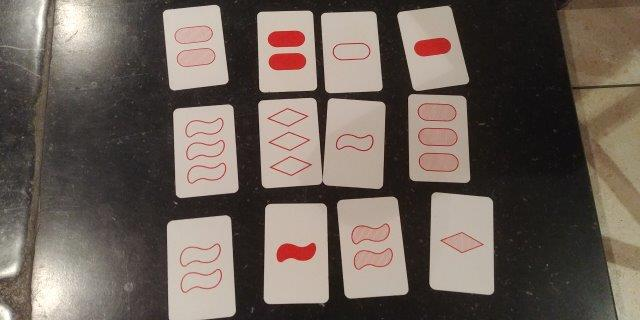1EP: (327, 15, 376, 90)
1EW: (330, 102, 379, 184)
1FP: (412, 12, 452, 85)
1FW: (267, 206, 324, 300)
1HD: (435, 198, 489, 288)
2EW: (171, 225, 229, 315)
2FP: (261, 15, 312, 88)
2HP: (170, 11, 219, 82)
2HW: (346, 200, 396, 293)
3ED: (263, 104, 315, 183)
3EW: (176, 111, 233, 190)
3HP: (412, 99, 464, 177)
